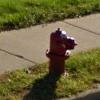Hydrant: (38, 18, 77, 89)
